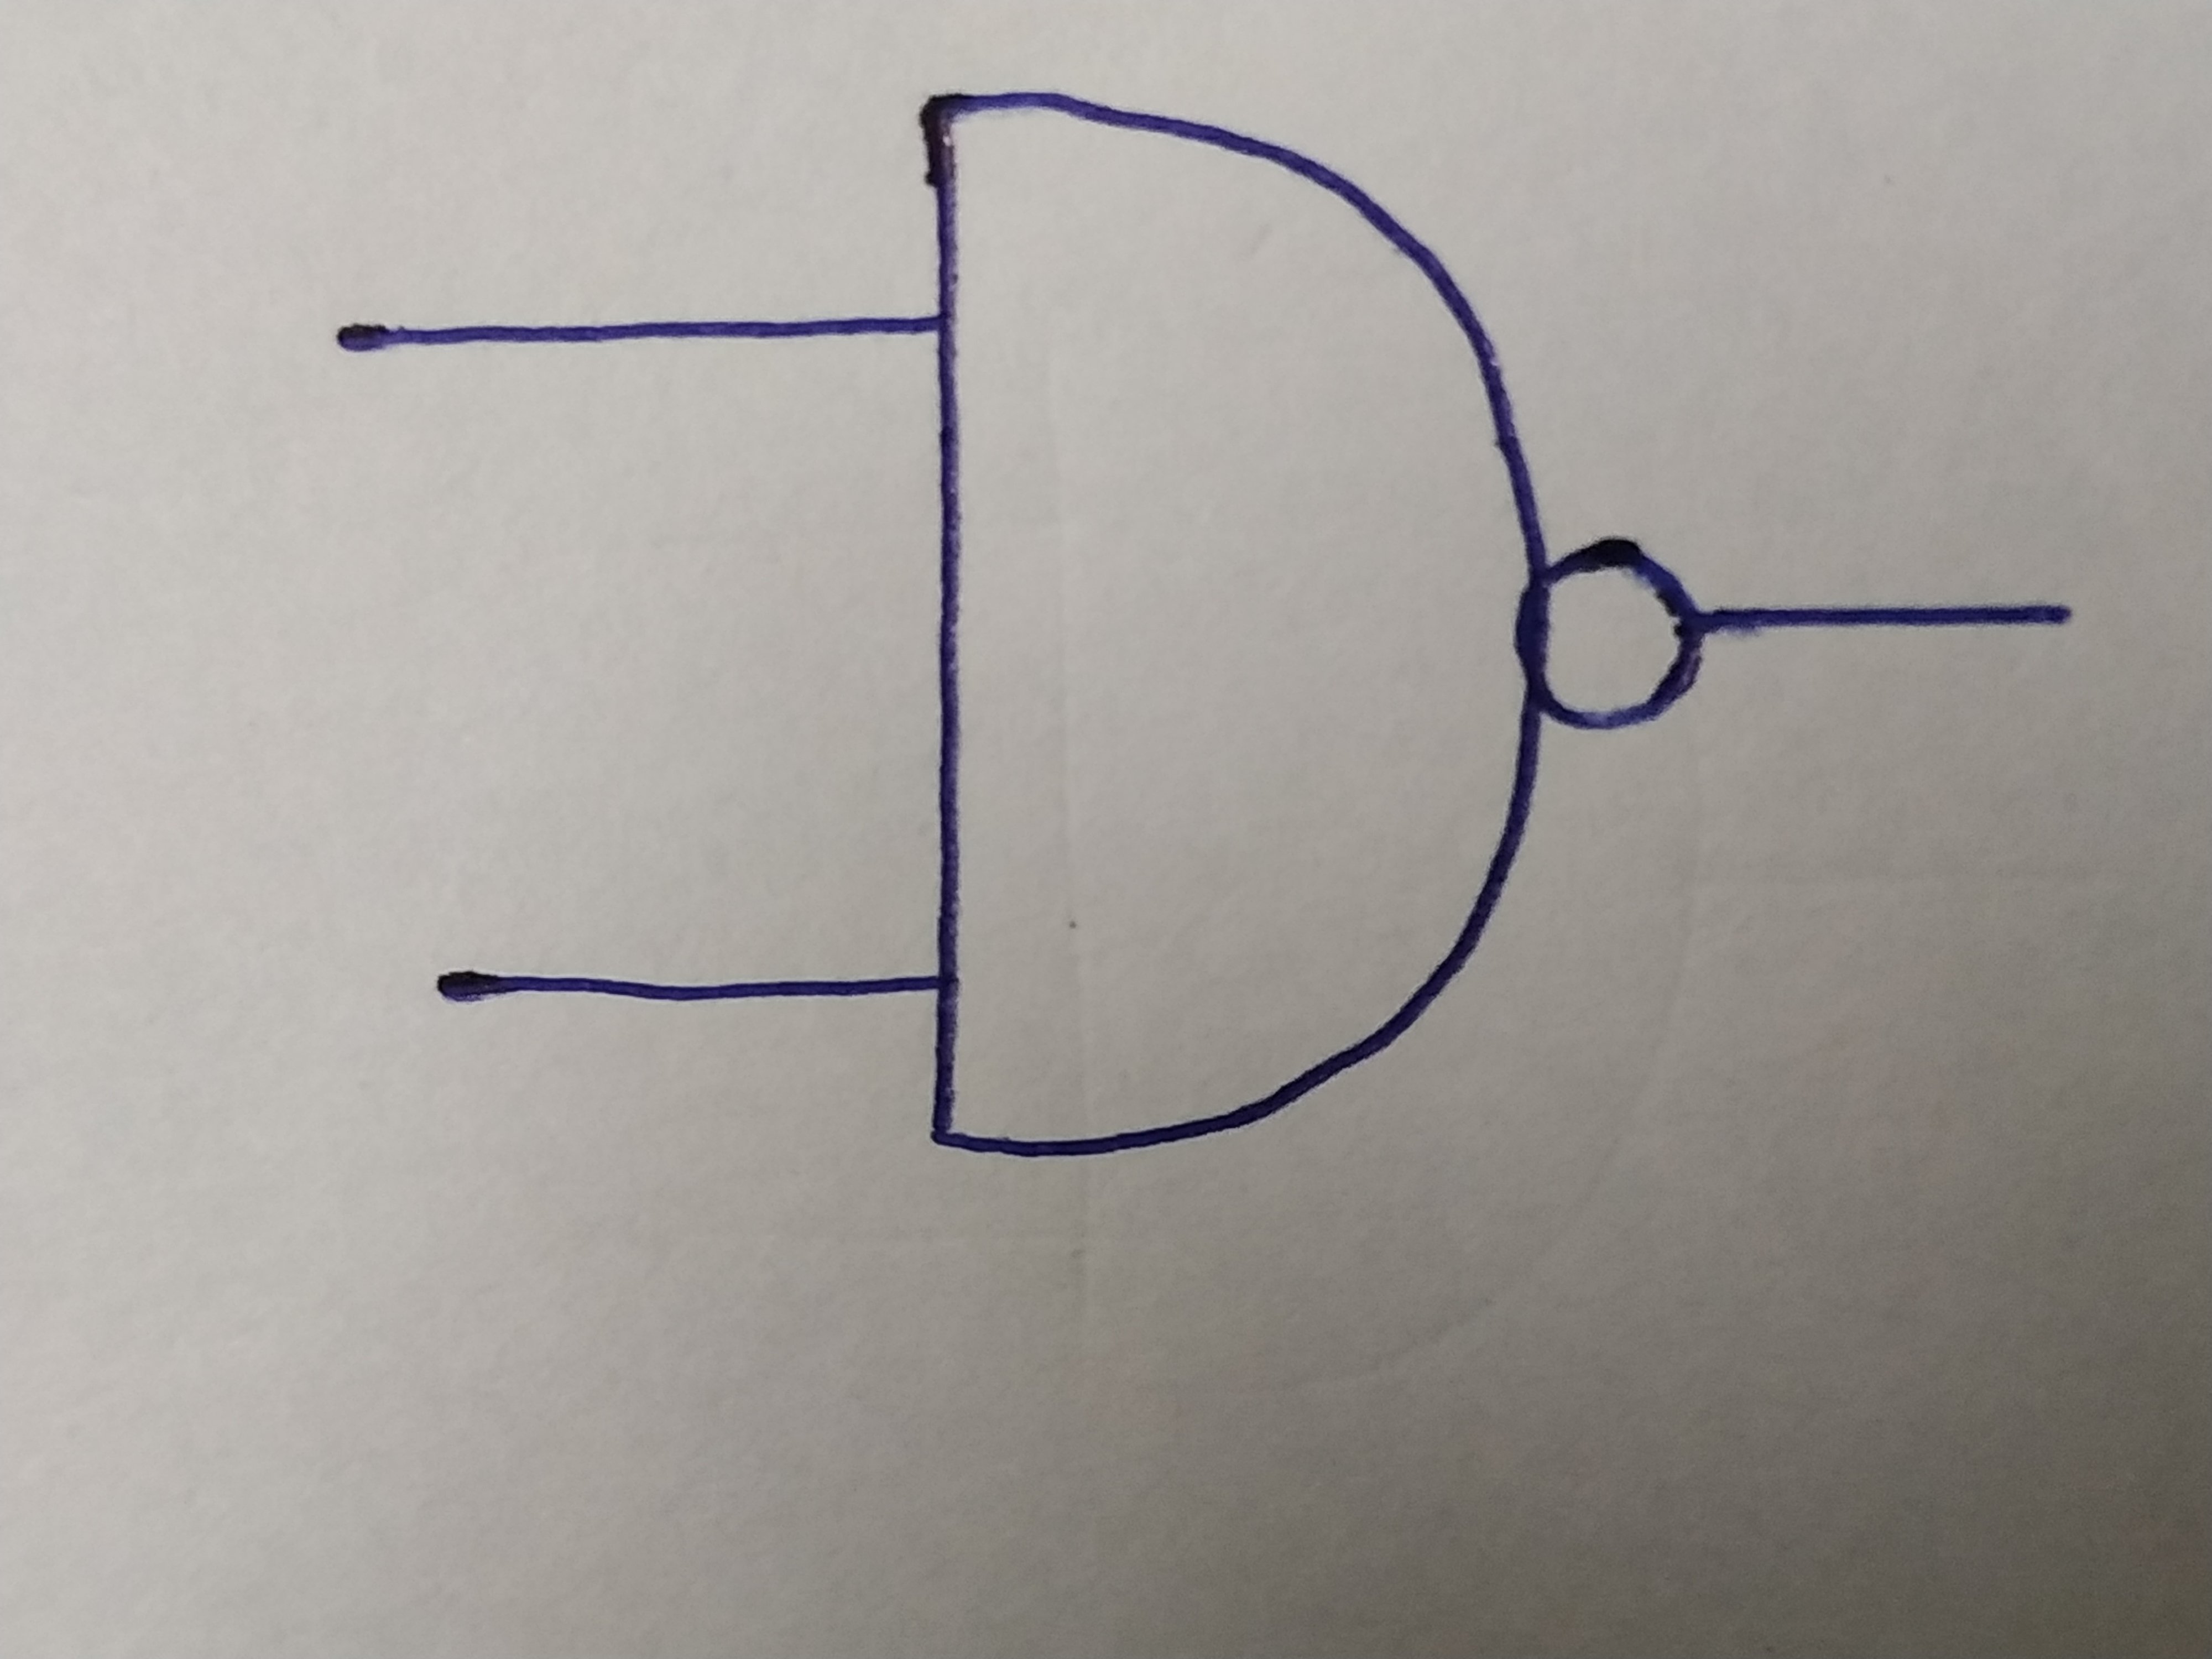and: (911, 92, 1524, 1154)
not: (1541, 544, 1698, 737)
